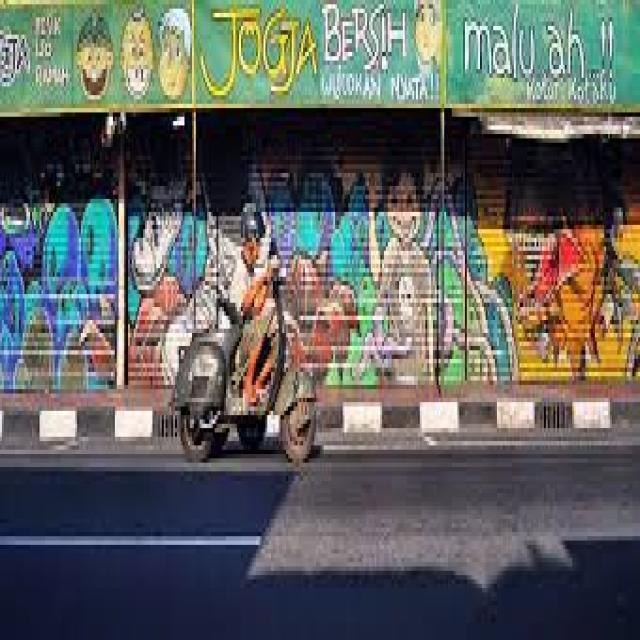-: (1, 159, 640, 385), (0, 0, 640, 108)
